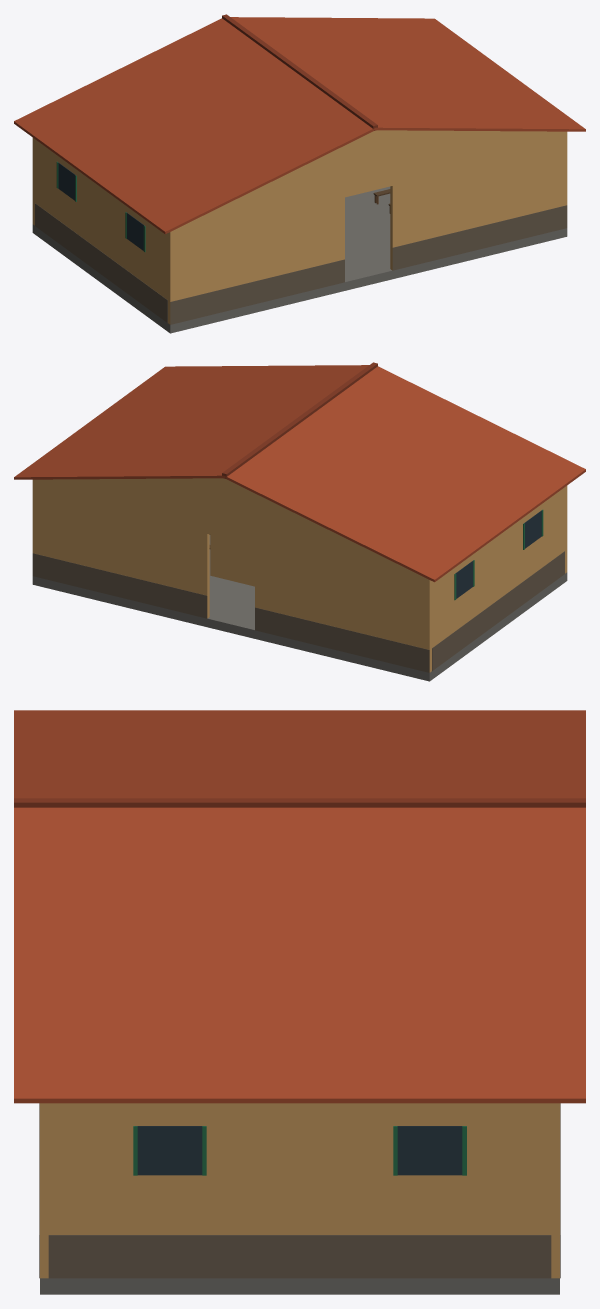
Rendered from refeitorio_a.glb.
The picture shows the model from 3 angles, top to bottom: view 1: azimuth 30°, elevation 25°; view 2: azimuth 150°, elevation 25°; view 3: azimuth 270°, elevation 25°; orthographic projection. The views are drawn at different scales.
Parts seen in each view (by area): view 1: refeitorio_a; view 2: refeitorio_a; view 3: refeitorio_a.
Boxes of the visible parts, x1,y1,x2,y2 form: refeitorio_a: (14,14,585,333); refeitorio_a: (14,362,585,681); refeitorio_a: (14,710,585,1294).
Size of the model in its own units: 21.2 by 7.92 by 13.2.
